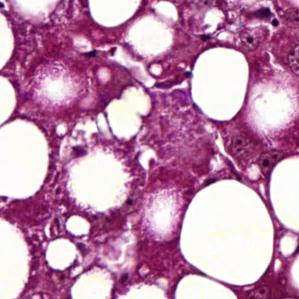steatosis: (179, 168, 280, 285), (190, 43, 249, 129)
